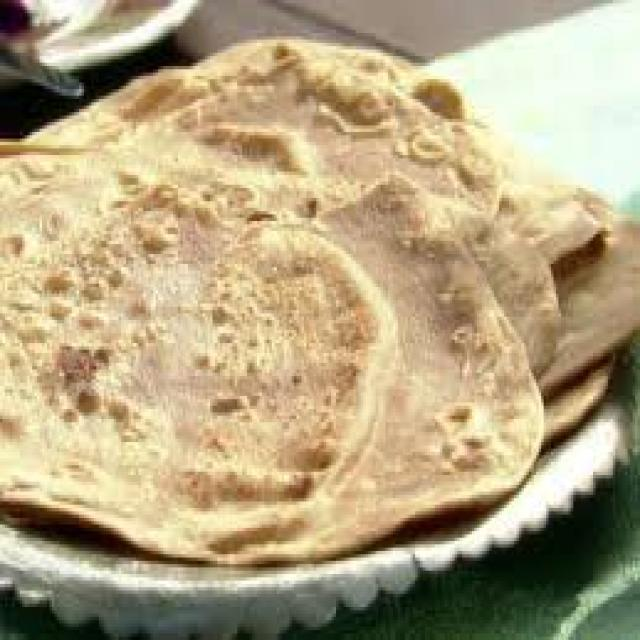CHAPATHI: (0, 39, 589, 568)
